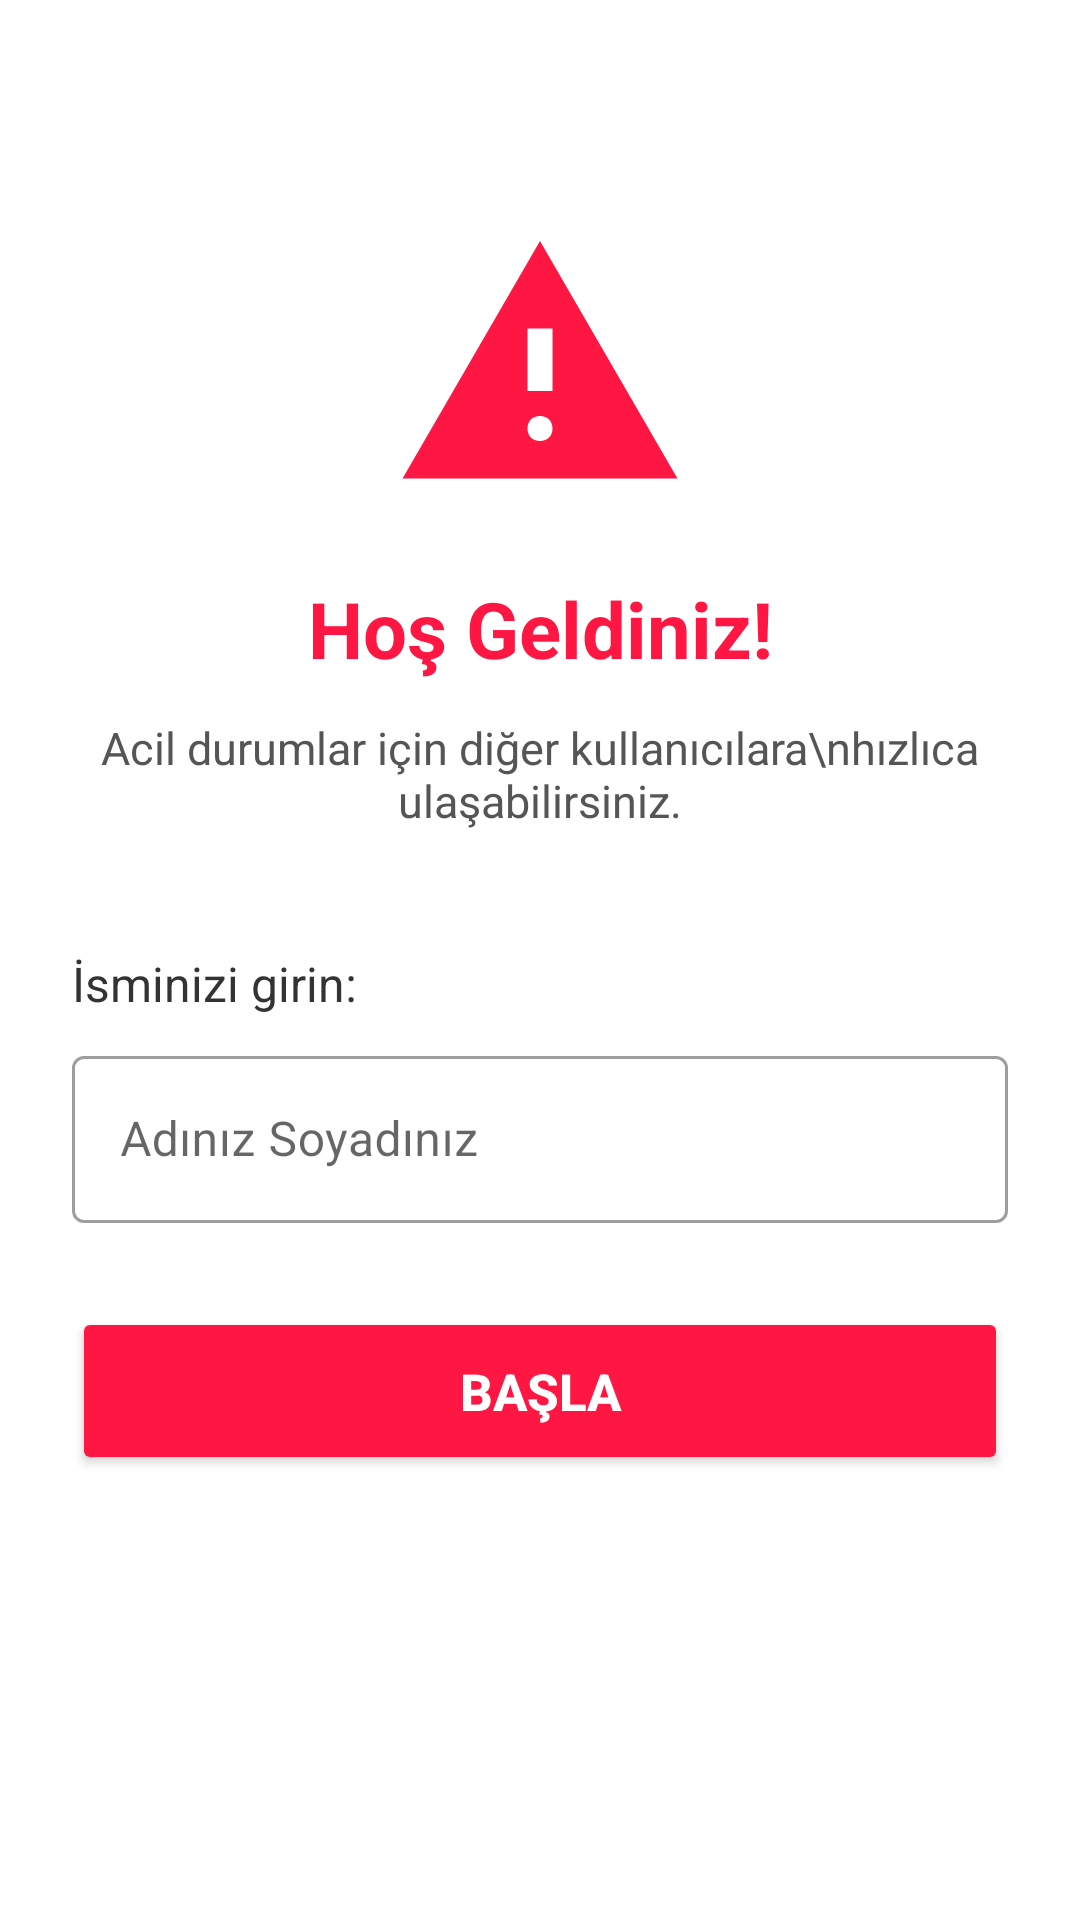

Where icons sit on this 1080x1920 app screen, as (x1, y1, x2, y2):
emergency: (402, 241, 678, 479)
